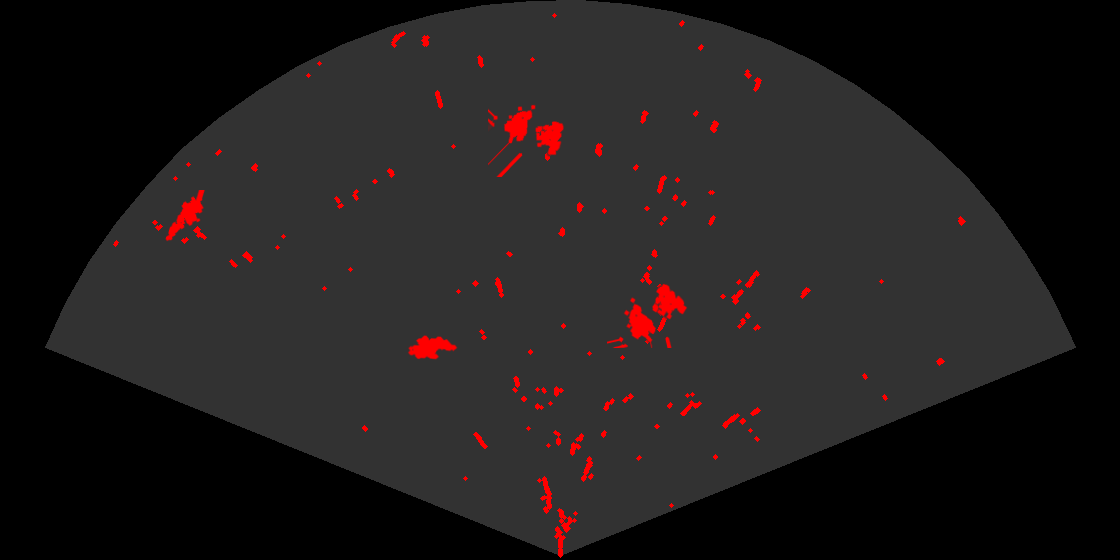AUV: (406, 334, 459, 361)
cage: (488, 103, 566, 177), (607, 282, 689, 348)
frogman: (164, 190, 206, 243)
